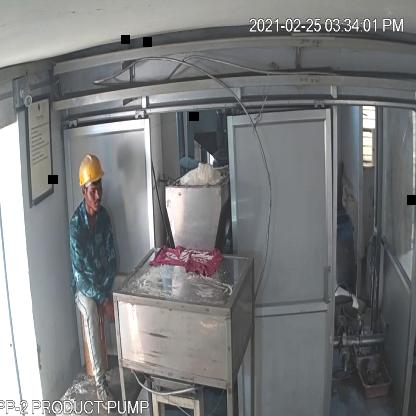helmet: (78, 153, 112, 196)
